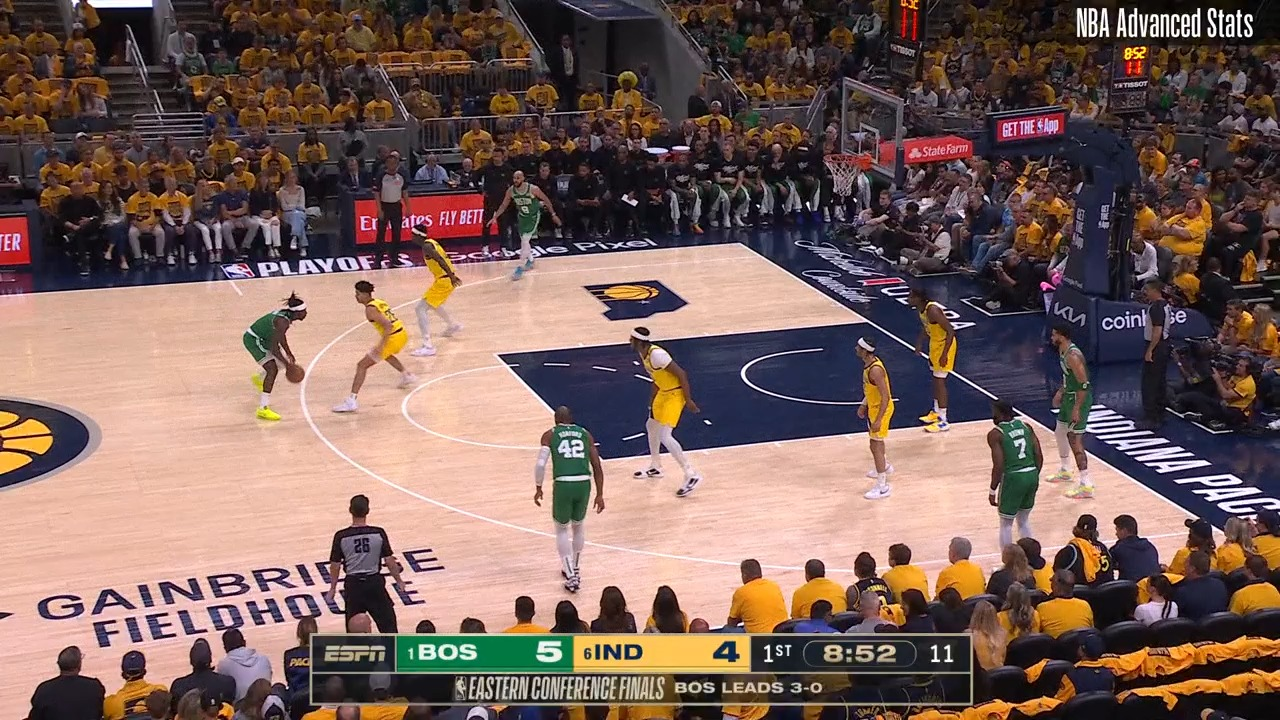basketball: (284, 361, 305, 386)
